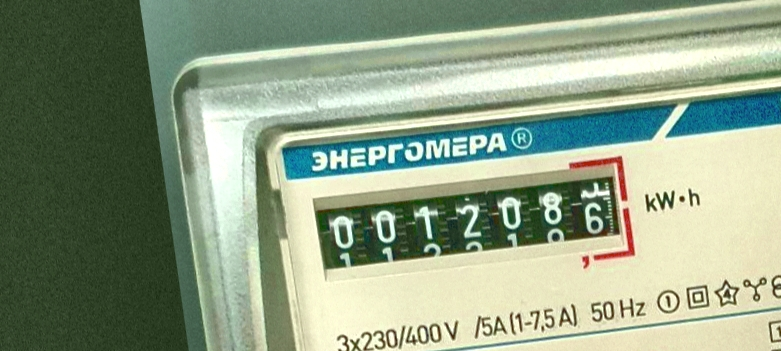0: (326, 210, 357, 252), (369, 206, 398, 246), (494, 193, 523, 232)
1: (411, 202, 437, 243)
2: (454, 200, 485, 241)
6: (577, 198, 605, 237)
8: (535, 188, 564, 228)
screen: (302, 147, 644, 306)
